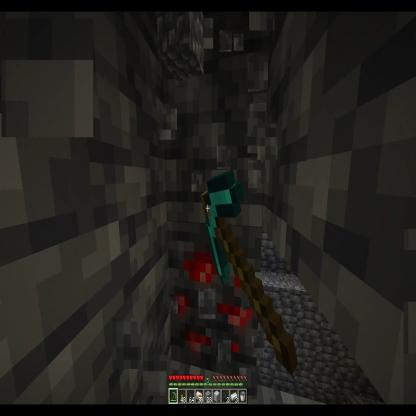redstone ore: (172, 224, 261, 380)
